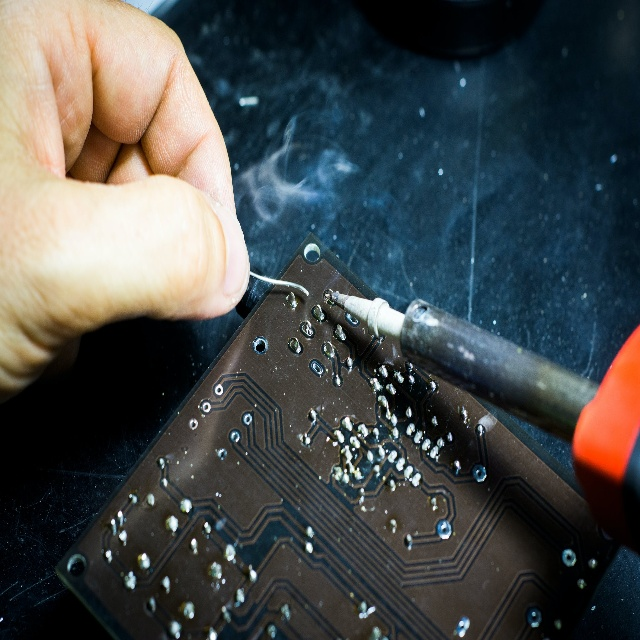Sin_guantes: (0, 0, 250, 405)
